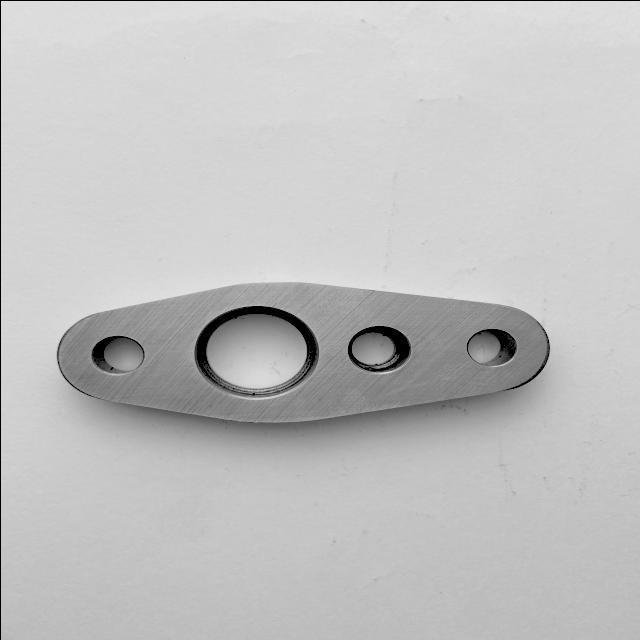chap: (357, 372, 362, 376)
